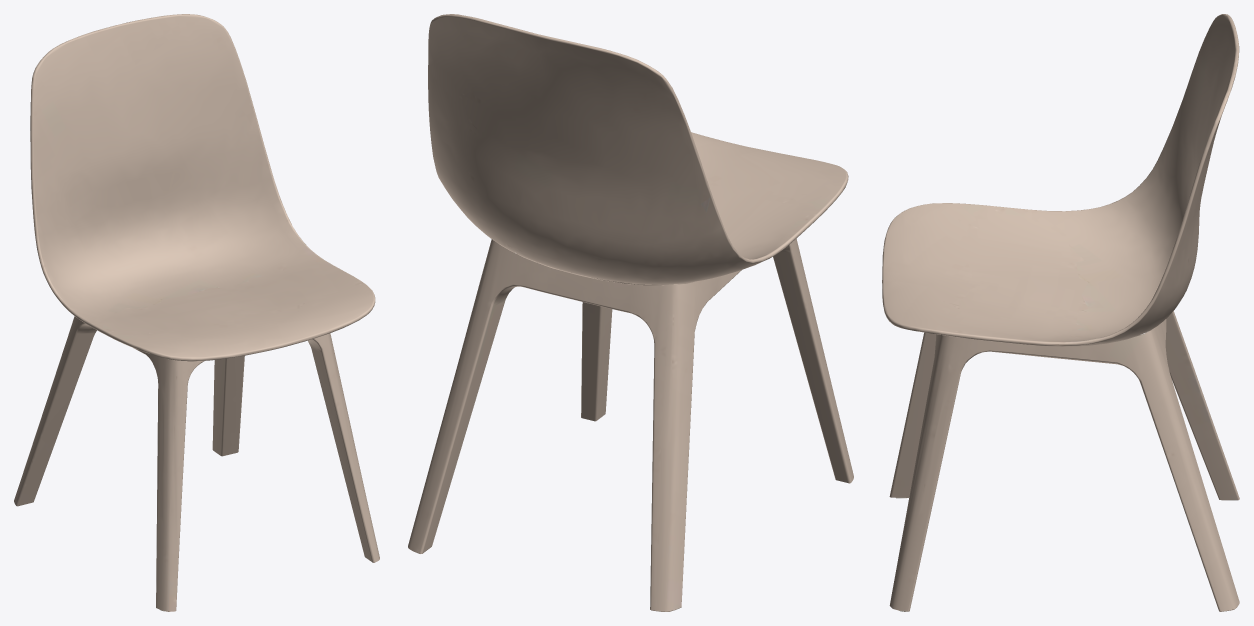
3 views of the same model, side by side, from view 1: azimuth 30°, elevation 25°; view 2: azimuth 150°, elevation 25°; view 3: azimuth 270°, elevation 25° (orthographic). The views are drawn at different scales.
Visible parts, largest first — view 1: Mesh_0; view 2: Mesh_0; view 3: Mesh_0.
Boxes of the visible parts, x1,y1,x2,y2 form: Mesh_0: [14, 14, 379, 611]; Mesh_0: [408, 14, 853, 611]; Mesh_0: [882, 14, 1239, 611].
Size of the model in its own units: 0.4499 by 0.796 by 0.5126.
Materials: 1 (1 with a texture image).
